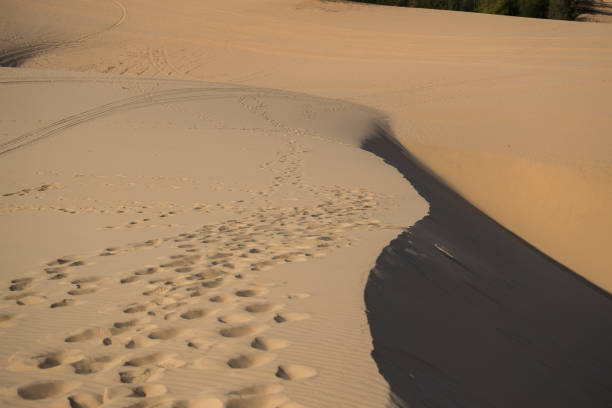human_foot_print: (2, 96, 383, 407), (7, 202, 380, 385)
